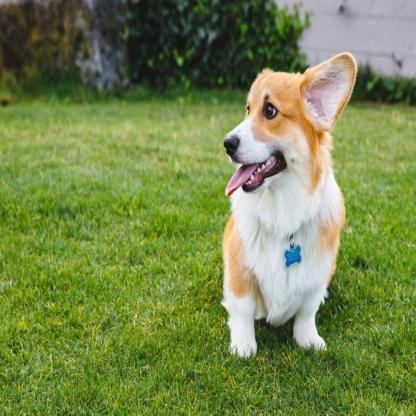Korgi: (220, 50, 358, 360)
